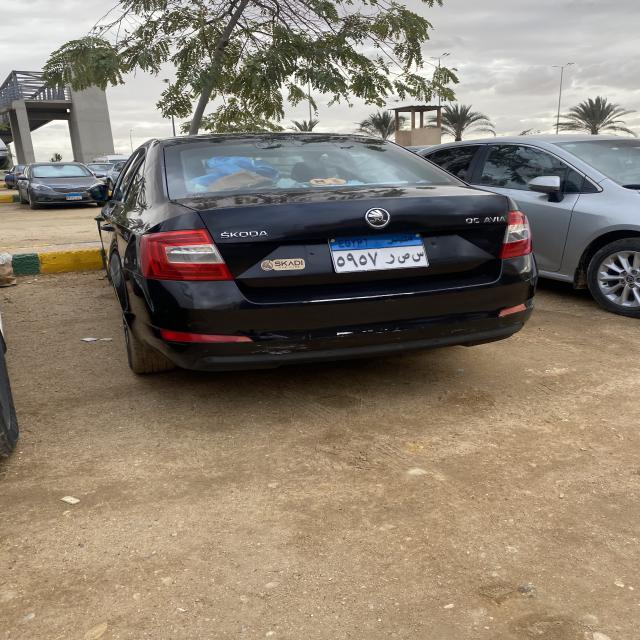License Plate: (328, 233, 430, 273), (66, 194, 82, 200)
